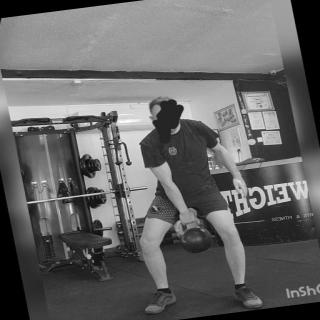kettlebell: (168, 208, 223, 260)
